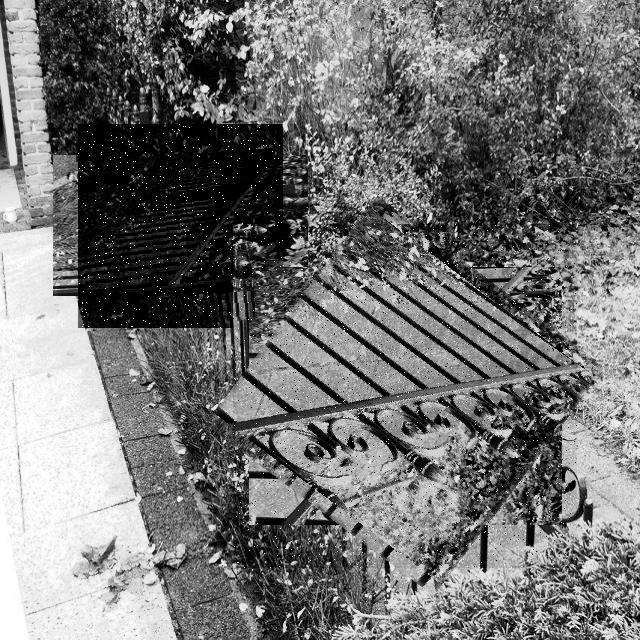fences: (233, 224, 577, 568), (78, 124, 283, 328)
